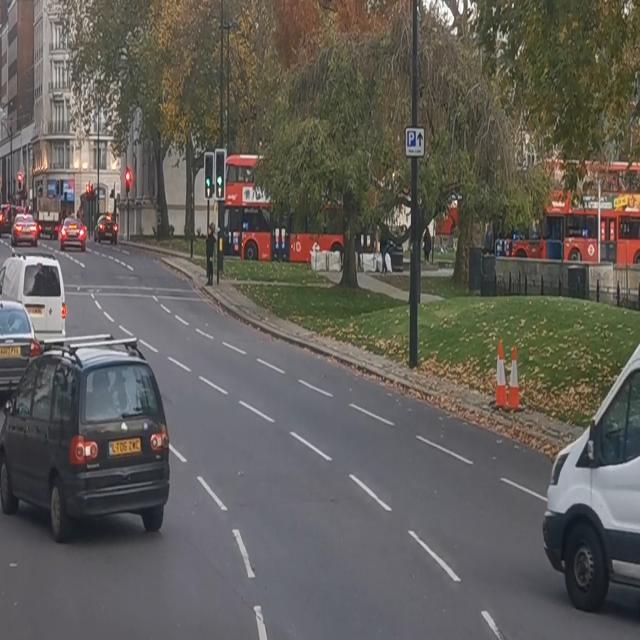Car: (3, 336, 171, 540), (2, 248, 66, 322), (0, 296, 38, 404), (60, 214, 86, 254), (96, 210, 120, 247)
